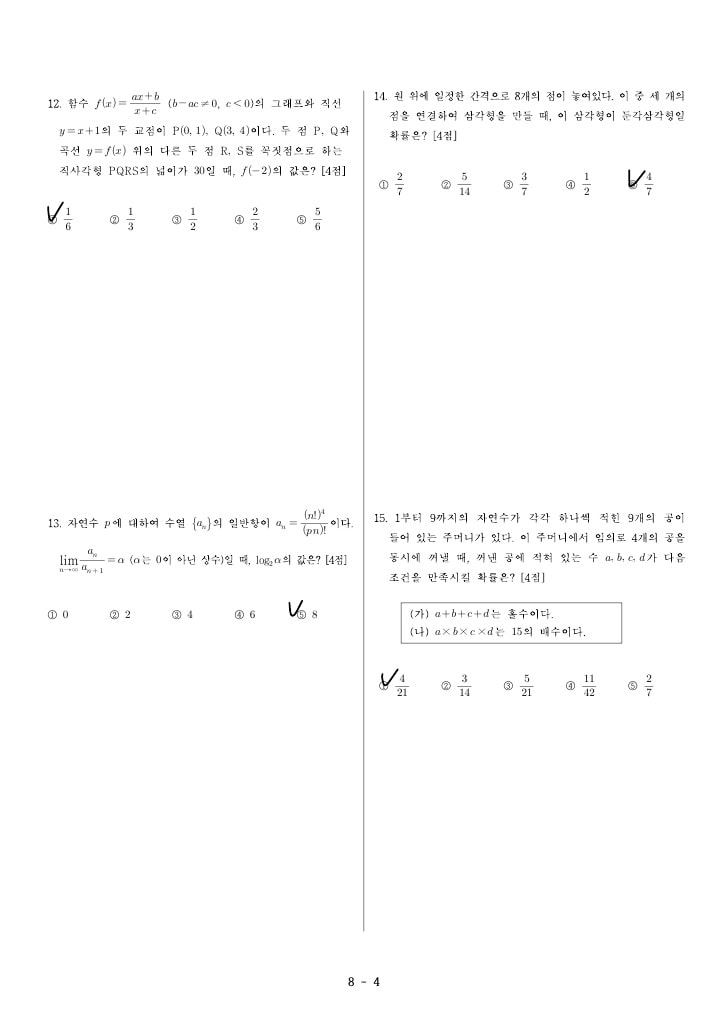question: (366, 503, 694, 714), (31, 85, 361, 247), (30, 502, 360, 635), (367, 78, 693, 204)
